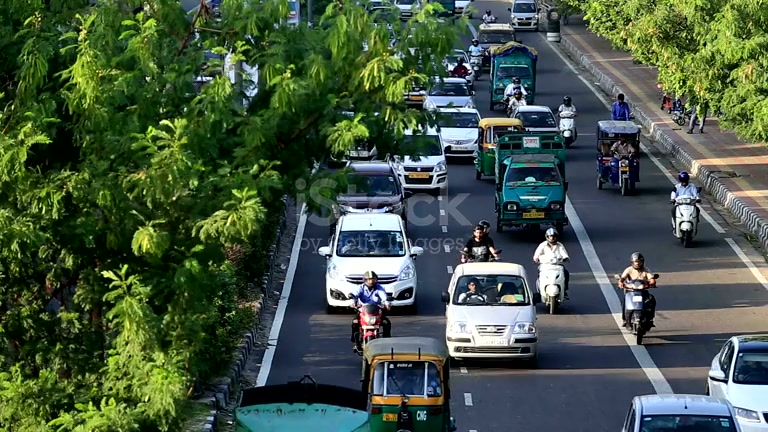car: (442, 261, 539, 368), (321, 211, 419, 313), (361, 337, 455, 431), (494, 153, 569, 238), (705, 335, 768, 427), (620, 394, 745, 431), (334, 161, 408, 218), (392, 133, 450, 197), (509, 0, 538, 28)
motorcycle: (614, 273, 659, 343), (351, 297, 387, 358), (596, 150, 640, 195), (625, 283, 657, 344), (670, 193, 704, 248), (536, 260, 569, 314), (596, 153, 621, 191), (558, 111, 578, 148)
pedestrian: (348, 271, 391, 348), (617, 252, 660, 326), (532, 227, 570, 300), (462, 220, 501, 262), (670, 171, 702, 222), (557, 95, 577, 136), (457, 278, 486, 304), (610, 92, 631, 121)
truck: (489, 41, 538, 111)
